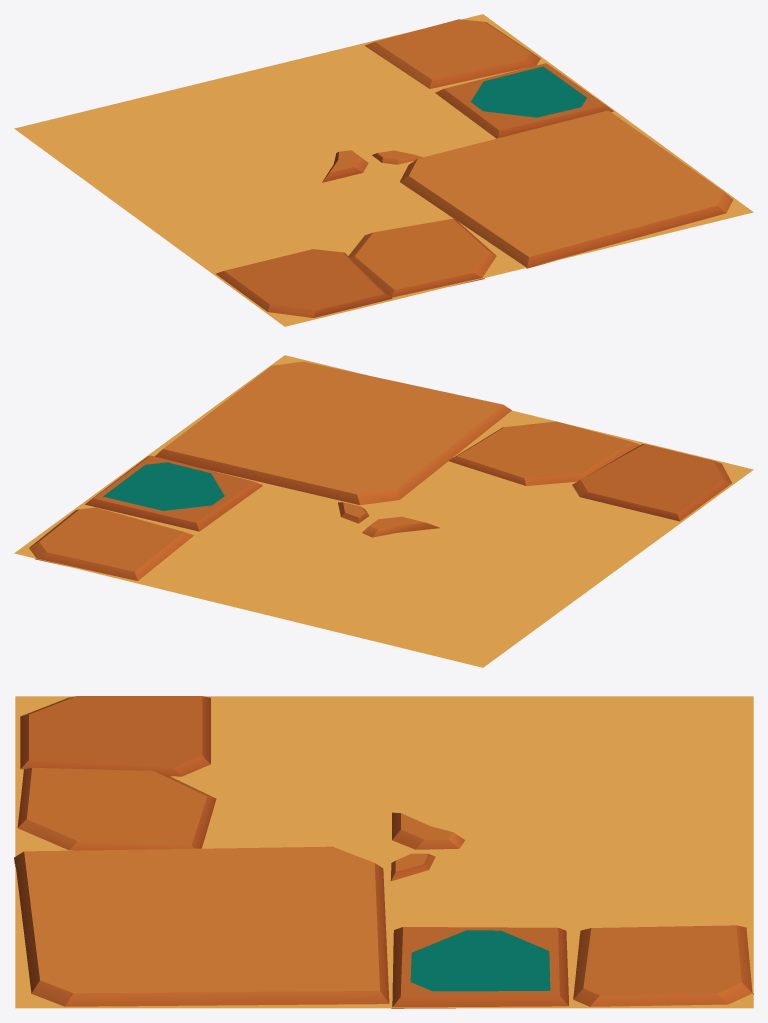
The model's file is tile_oasis.glb.
The picture shows the model from 3 angles, top to bottom: view 1: azimuth 30°, elevation 25°; view 2: azimuth 150°, elevation 25°; view 3: azimuth 270°, elevation 25°; orthographic projection. The views are drawn at different scales.
Parts seen in each view (by area): view 1: center_h; view 2: center_h; view 3: center_h.
Part boxes in pixels (x1,y1,x2,y2): center_h: (14, 14, 753, 326); center_h: (14, 355, 753, 667); center_h: (14, 696, 753, 1008).
Bounding box in the file's own units: 2 × 0.0324 × 2.
1 material, 1 textured.
